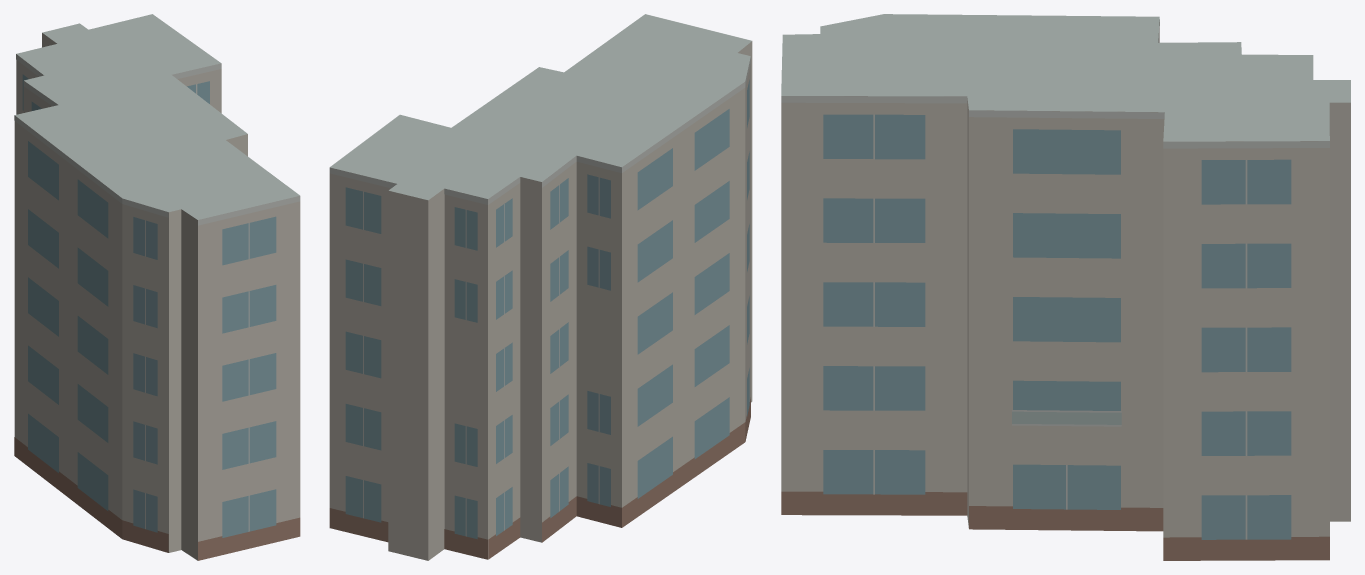
Rendered from survey-upis-32661313.glb.
The picture shows the model from 3 angles, left to right: view 1: azimuth 30°, elevation 25°; view 2: azimuth 150°, elevation 25°; view 3: azimuth 270°, elevation 25°; orthographic projection. The views are drawn at different scales.
Visible parts, largest first — view 1: survey-upis-32661313.tmp; view 2: survey-upis-32661313.tmp; view 3: survey-upis-32661313.tmp.
Part boxes in pixels (x1,y1,x2,y2): survey-upis-32661313.tmp: (14, 14, 300, 560); survey-upis-32661313.tmp: (329, 14, 752, 560); survey-upis-32661313.tmp: (781, 14, 1350, 560).
Bounding box in the file's own units: 9.68 × 14.8 × 18.24.
